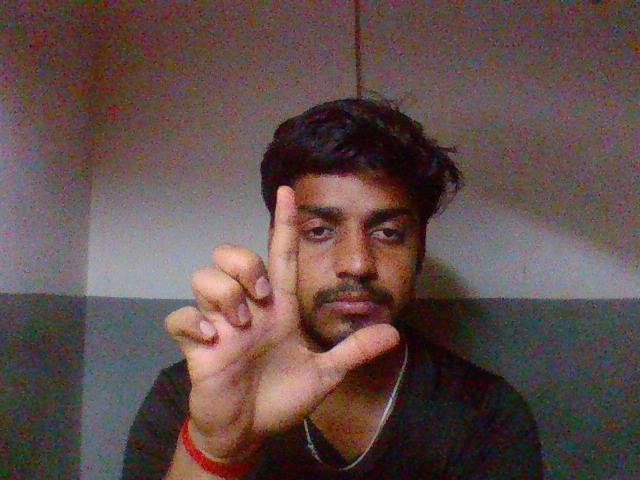L: (129, 175, 418, 430)
